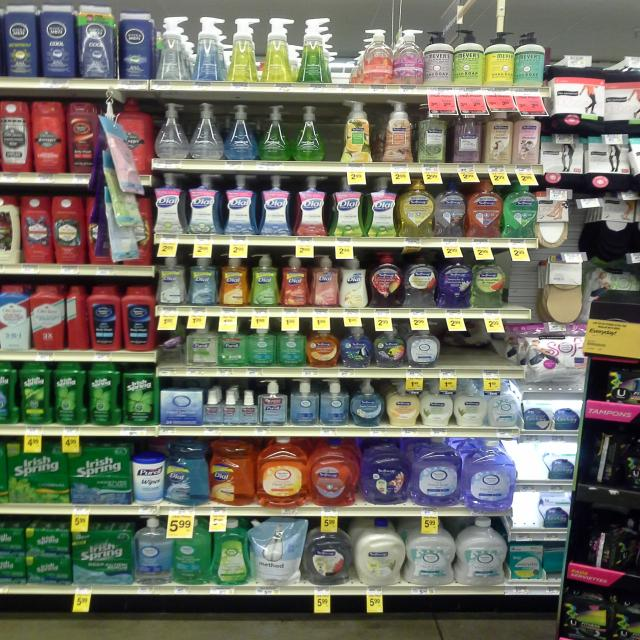unorganised: (64, 286, 90, 349), (544, 135, 587, 173), (606, 81, 639, 122), (161, 328, 188, 364)
